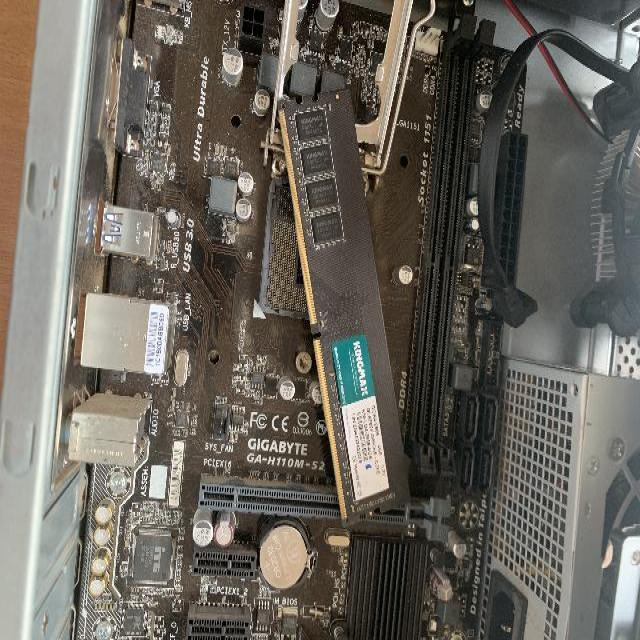Mainboard: (77, 0, 494, 636)
RAM: (276, 87, 408, 521)
